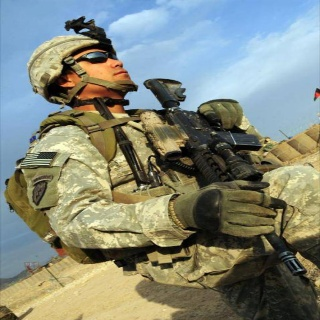rifle: (138, 77, 309, 280)
